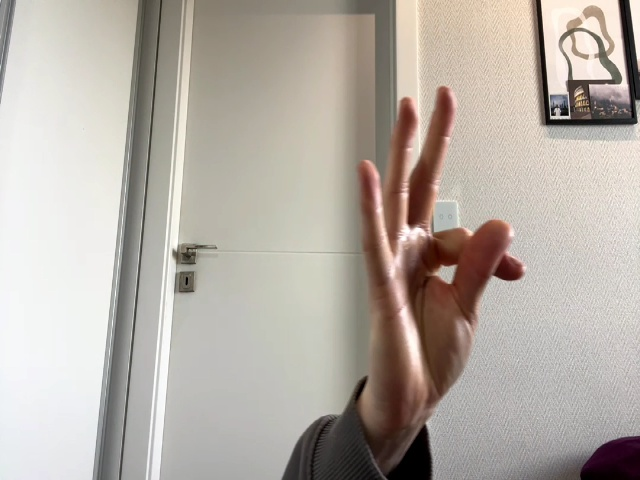T: (357, 85, 526, 402)
